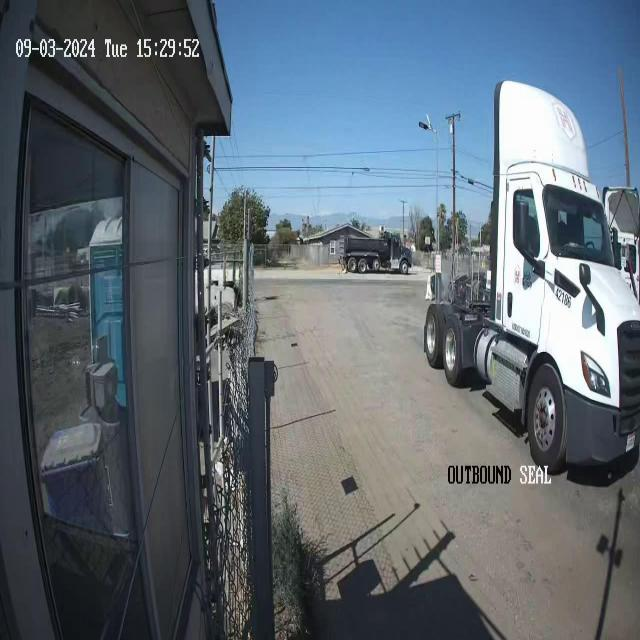TRUCK_IN: (423, 78, 639, 477)
